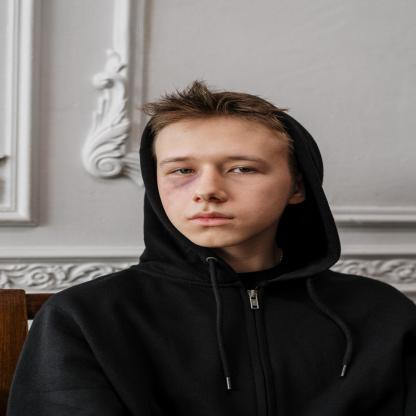Eye: (225, 164, 266, 177), (167, 167, 200, 177)
Mouth: (186, 211, 235, 227)
Nose: (192, 172, 228, 203)
